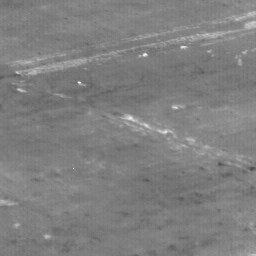aircraft: (78, 82, 80, 84)
